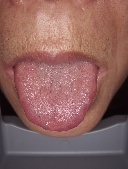tongue: (12, 67, 98, 132)
